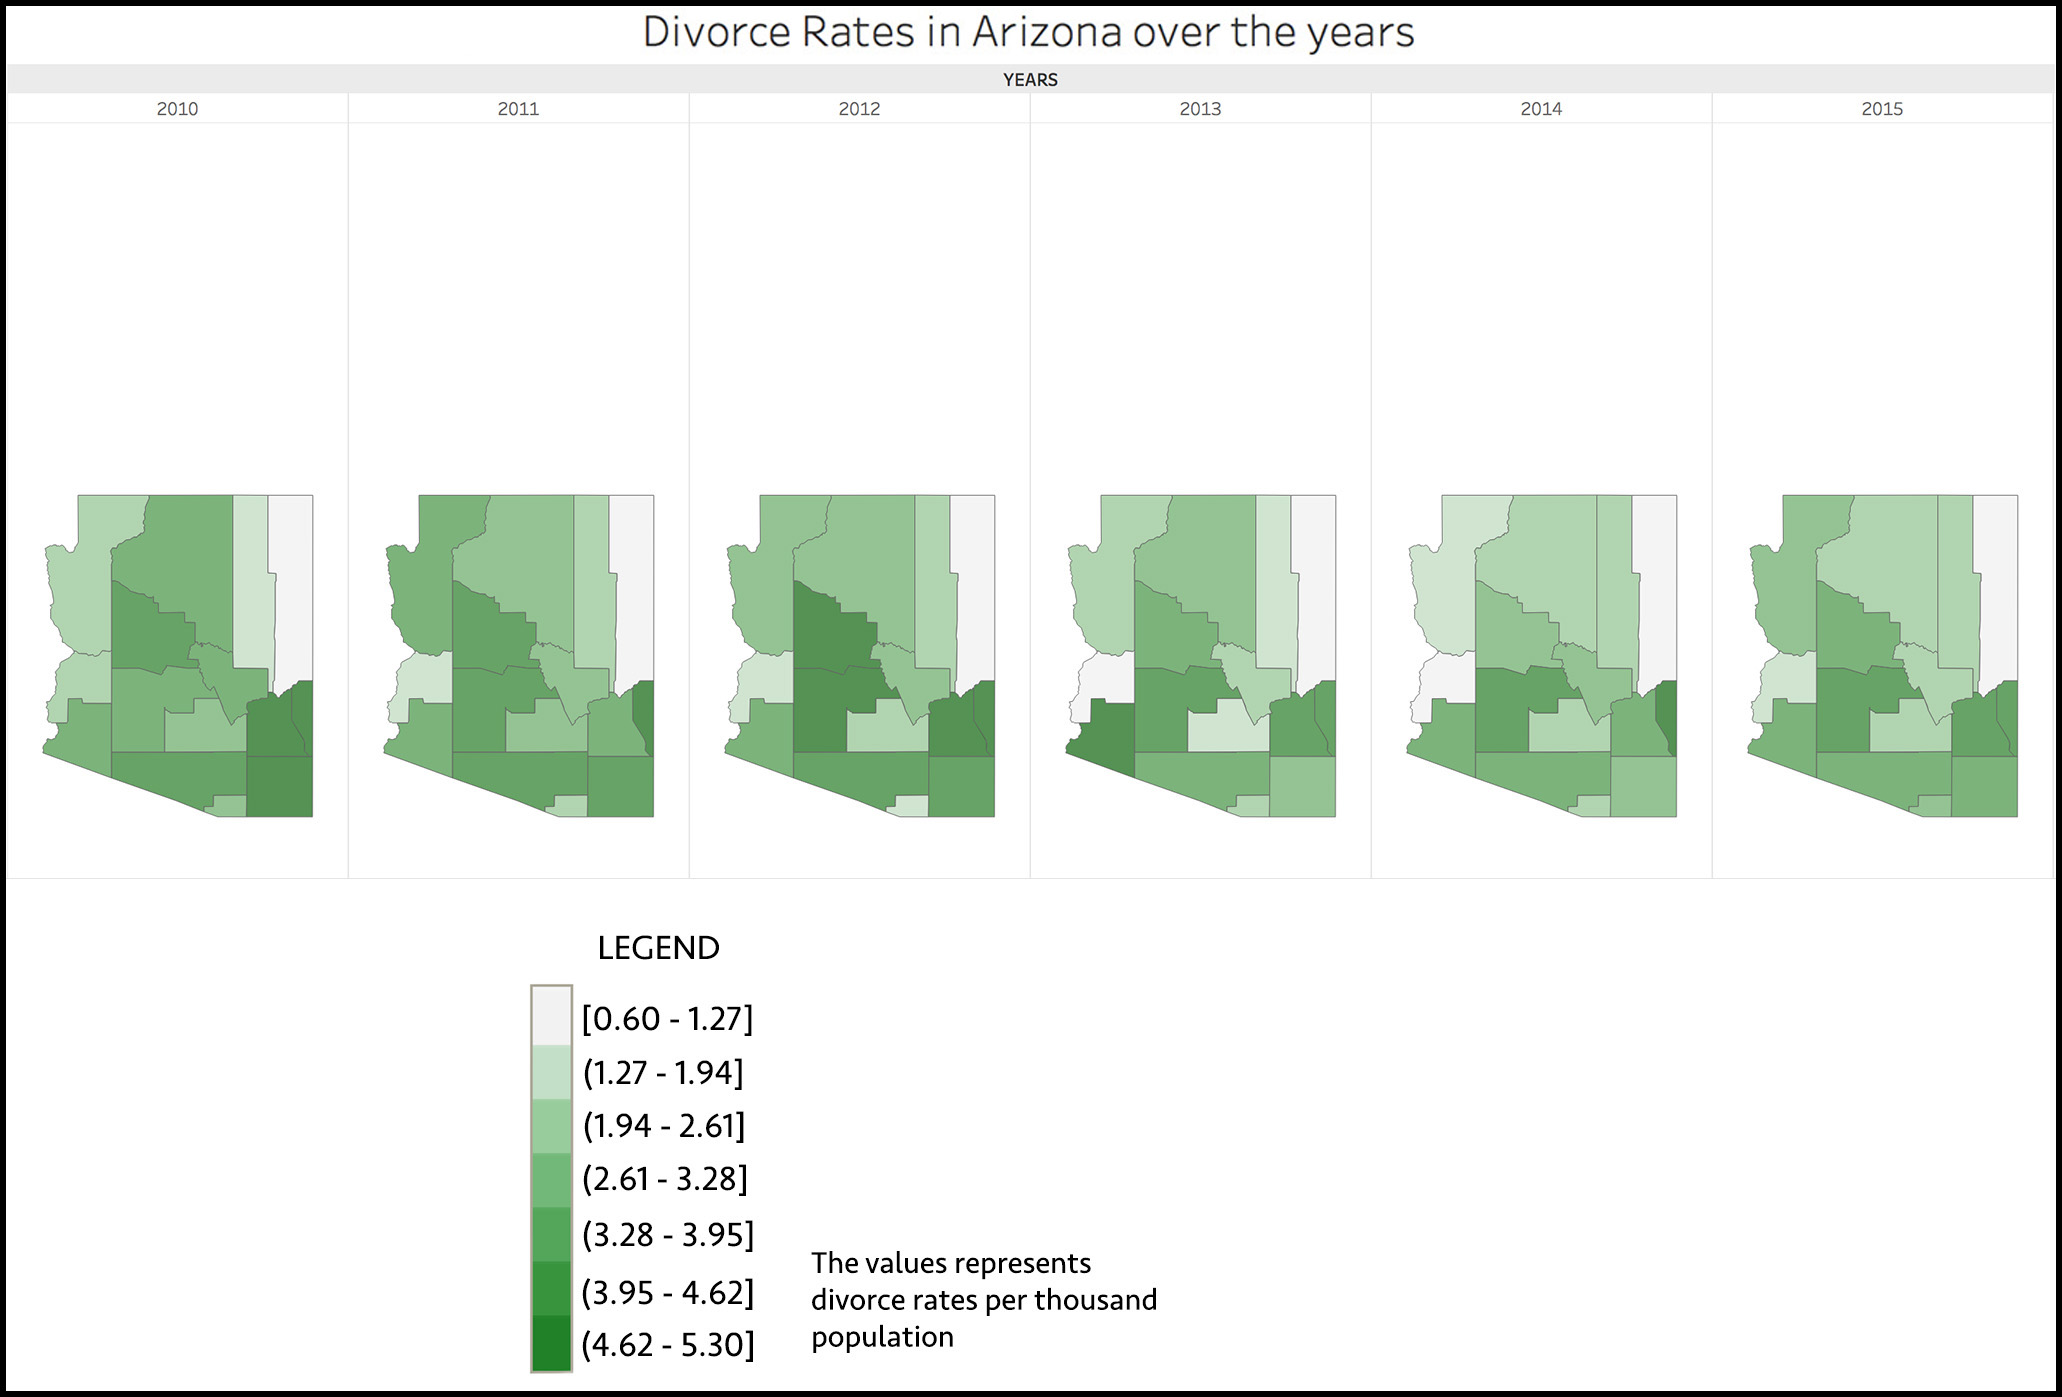

The page's visual inventory and layout, read from the dashboard file:
{"tool":"tableau","page":{"name":"Dashboard 1","canvas":[1000,800],"ordinal":0},"visuals":[{"type":"worksheet","title":"2015","mark":"Automatic","box":[0,0,280,400]},{"type":"worksheet","title":"2014","mark":"Automatic","box":[280,0,280,400]},{"type":"worksheet","title":"2013","mark":"Automatic","box":[560,0,280,400]},{"type":"legend","title":"2015","param":"[federated.0369e7716h2ei7131ak1f0rnpe0t].[rank:sum:2015:qk]","box":[840,0,160,69]},{"type":"legend","title":"2013","param":"[federated.0369e7716h2ei7131ak1f0rnpe0t].[rank:sum:2013:qk]","box":[840,69,160,65]},{"type":"legend","title":"2014","param":"[federated.0369e7716h2ei7131ak1f0rnpe0t].[rank:sum:2014:qk]","box":[840,134,160,65]},{"type":"legend","title":"2012","param":"[federated.0369e7716h2ei7131ak1f0rnpe0t].[rank:sum:2012:qk]","box":[840,199,160,65]},{"type":"legend","title":"2011","param":"[federated.0369e7716h2ei7131ak1f0rnpe0t].[rank:sum:2011:qk]","box":[840,264,160,65]},{"type":"legend","title":"2010","param":"[federated.0369e7716h2ei7131ak1f0rnpe0t].[rank:sum:2010:qk]","box":[840,329,160,65]},{"type":"worksheet","title":"2012","mark":"Automatic","box":[0,400,280,400]},{"type":"worksheet","title":"2011","mark":"Automatic","box":[280,400,280,400]},{"type":"worksheet","title":"2010","mark":"Automatic","box":[560,400,280,400]}]}

Visuals, with their boxes on the page's 1000x800 design canvas (x1, y1, x2, y2). These are canvas units, not pixel positions in the 2062x1397 screenshot, which may show the page scaled, cropped or inside an application window:
"2015" worksheet: Rect(0, 0, 280, 400)
"2014" worksheet: Rect(280, 0, 560, 400)
"2013" worksheet: Rect(560, 0, 840, 400)
"2015" legend: Rect(840, 0, 1000, 69)
"2013" legend: Rect(840, 69, 1000, 134)
"2014" legend: Rect(840, 134, 1000, 199)
"2012" legend: Rect(840, 199, 1000, 264)
"2011" legend: Rect(840, 264, 1000, 329)
"2010" legend: Rect(840, 329, 1000, 394)
"2012" worksheet: Rect(0, 400, 280, 800)
"2011" worksheet: Rect(280, 400, 560, 800)
"2010" worksheet: Rect(560, 400, 840, 800)
